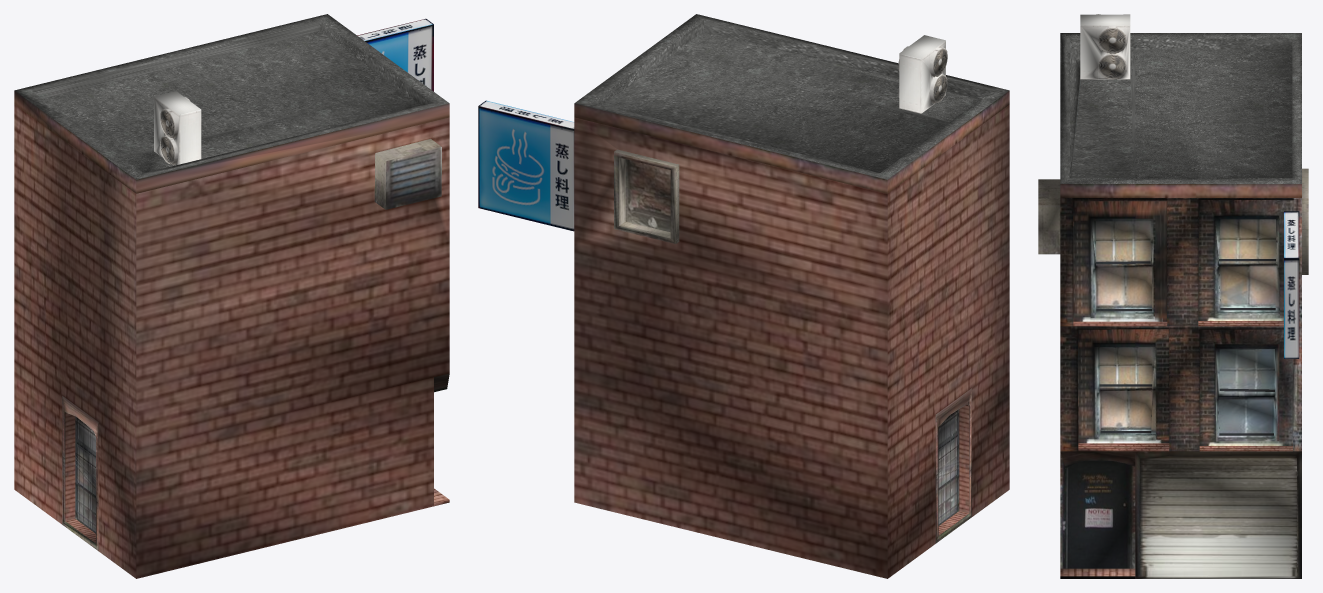
The model's file is tokyo-shop-d.glb.
3 views of the same model, side by side, from view 1: azimuth 30°, elevation 25°; view 2: azimuth 150°, elevation 25°; view 3: azimuth 270°, elevation 25° (orthographic).
Parts seen in each view (by area): view 1: edificioladrillo_2; view 2: edificioladrillo_2; view 3: edificioladrillo_2.
Part boxes in pixels (<box>): edificioladrillo_2: <box>14,14,449,578</box>; edificioladrillo_2: <box>478,14,1009,578</box>; edificioladrillo_2: <box>1038,14,1308,578</box>.
Bounding box in the file's own units: 22.41 × 23.13 × 12.91.
Materials: 1 (1 with a texture image).
